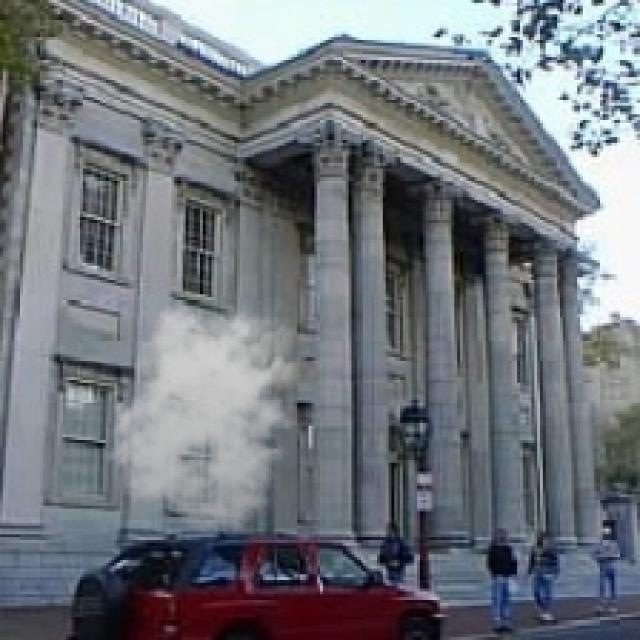smoke: (106, 297, 311, 534)
